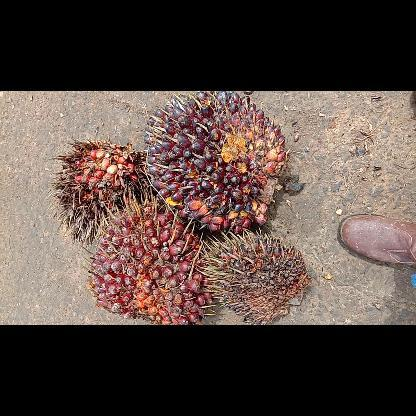Kurang masak: (142, 92, 288, 235)
TBS abnormal: (195, 226, 314, 324)
TBS masak: (84, 198, 216, 324)
Terlalu masak: (45, 136, 145, 248)
